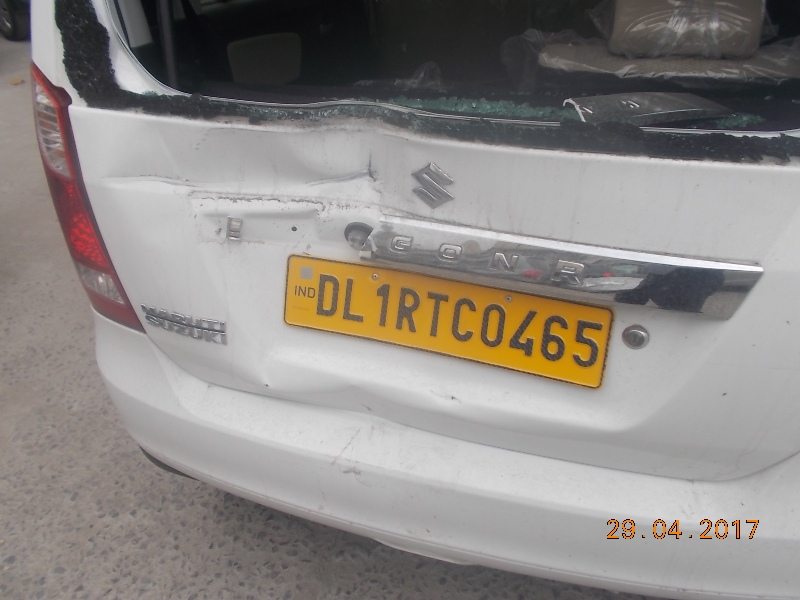Dent: (198, 135, 432, 244)
